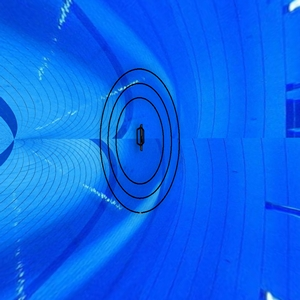circle: (96, 67, 184, 219)
submarine: (133, 125, 158, 155)
